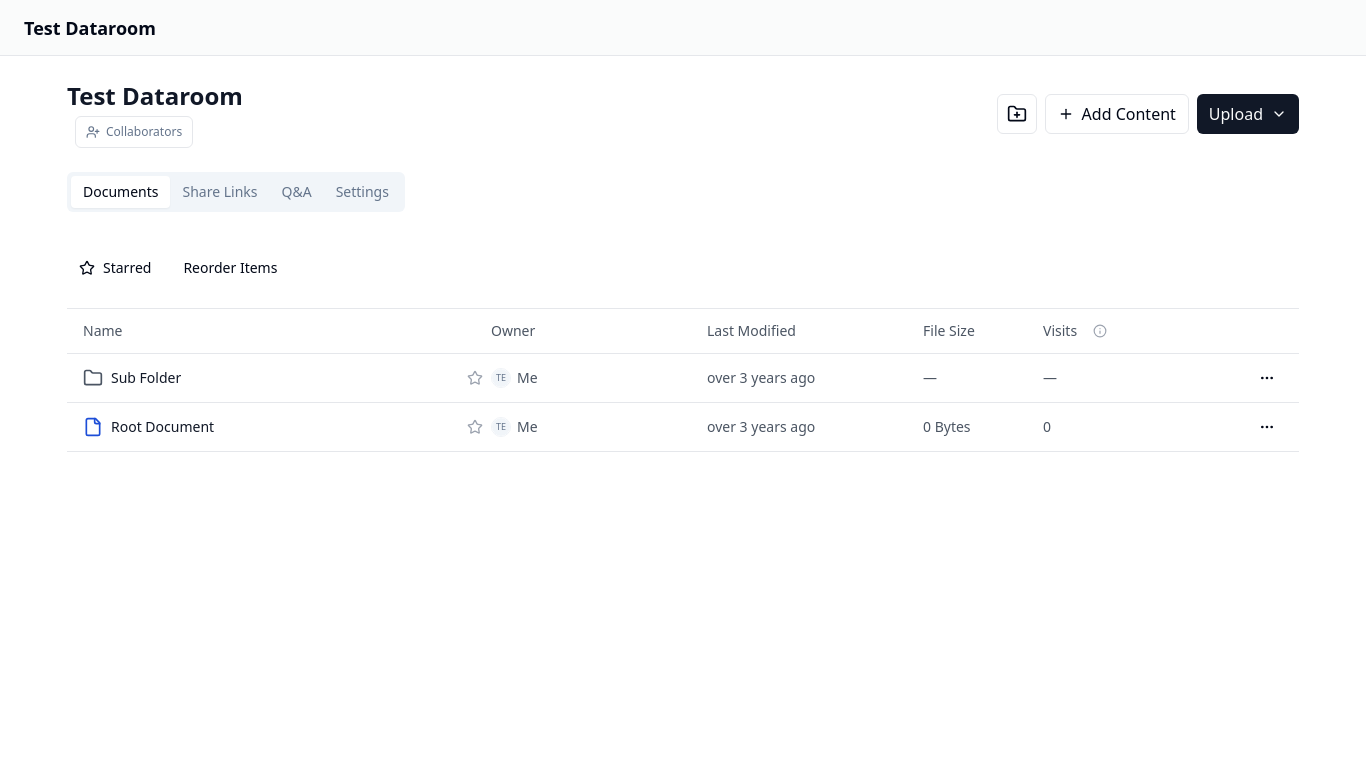
DataroomPage › Folder Navigation › should display empty state when navigating into an empty folder
Click the button "Sub Folder" at (146, 378), box [111,368,181,388]
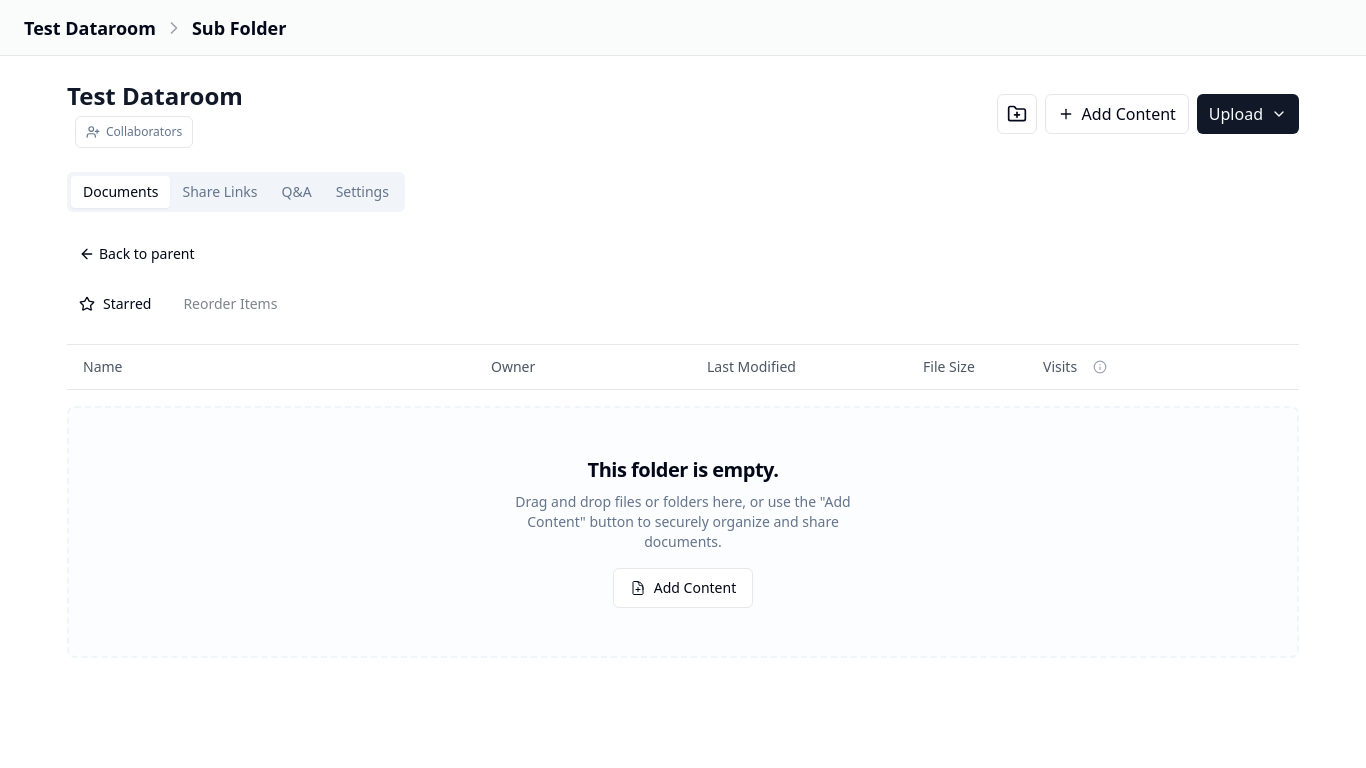
Expected: the heading "This folder is empty." is shown, [588,456,778,484]
